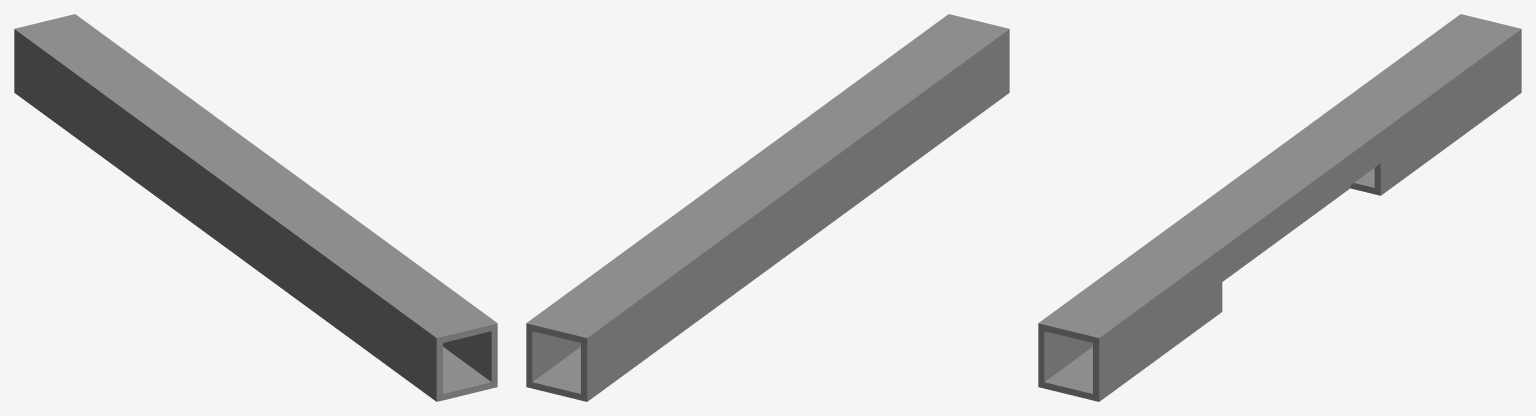
3 views of the same model, side by side, from view 1: azimuth 30°, elevation 25°; view 2: azimuth 150°, elevation 25°; view 3: azimuth 330°, elevation 25° (orthographic).
Parts seen in each view (by area): view 1: Body_01; view 2: Body_01; view 3: Body_01.
Boxes of the visible parts, x1,y1,x2,y2 form: Body_01: [14, 14, 497, 401]; Body_01: [526, 14, 1009, 401]; Body_01: [1038, 14, 1521, 401].
Size of the model in its own units: 0.01 by 0.01 by 0.12.
Materials: 1 (1 with a texture image).
